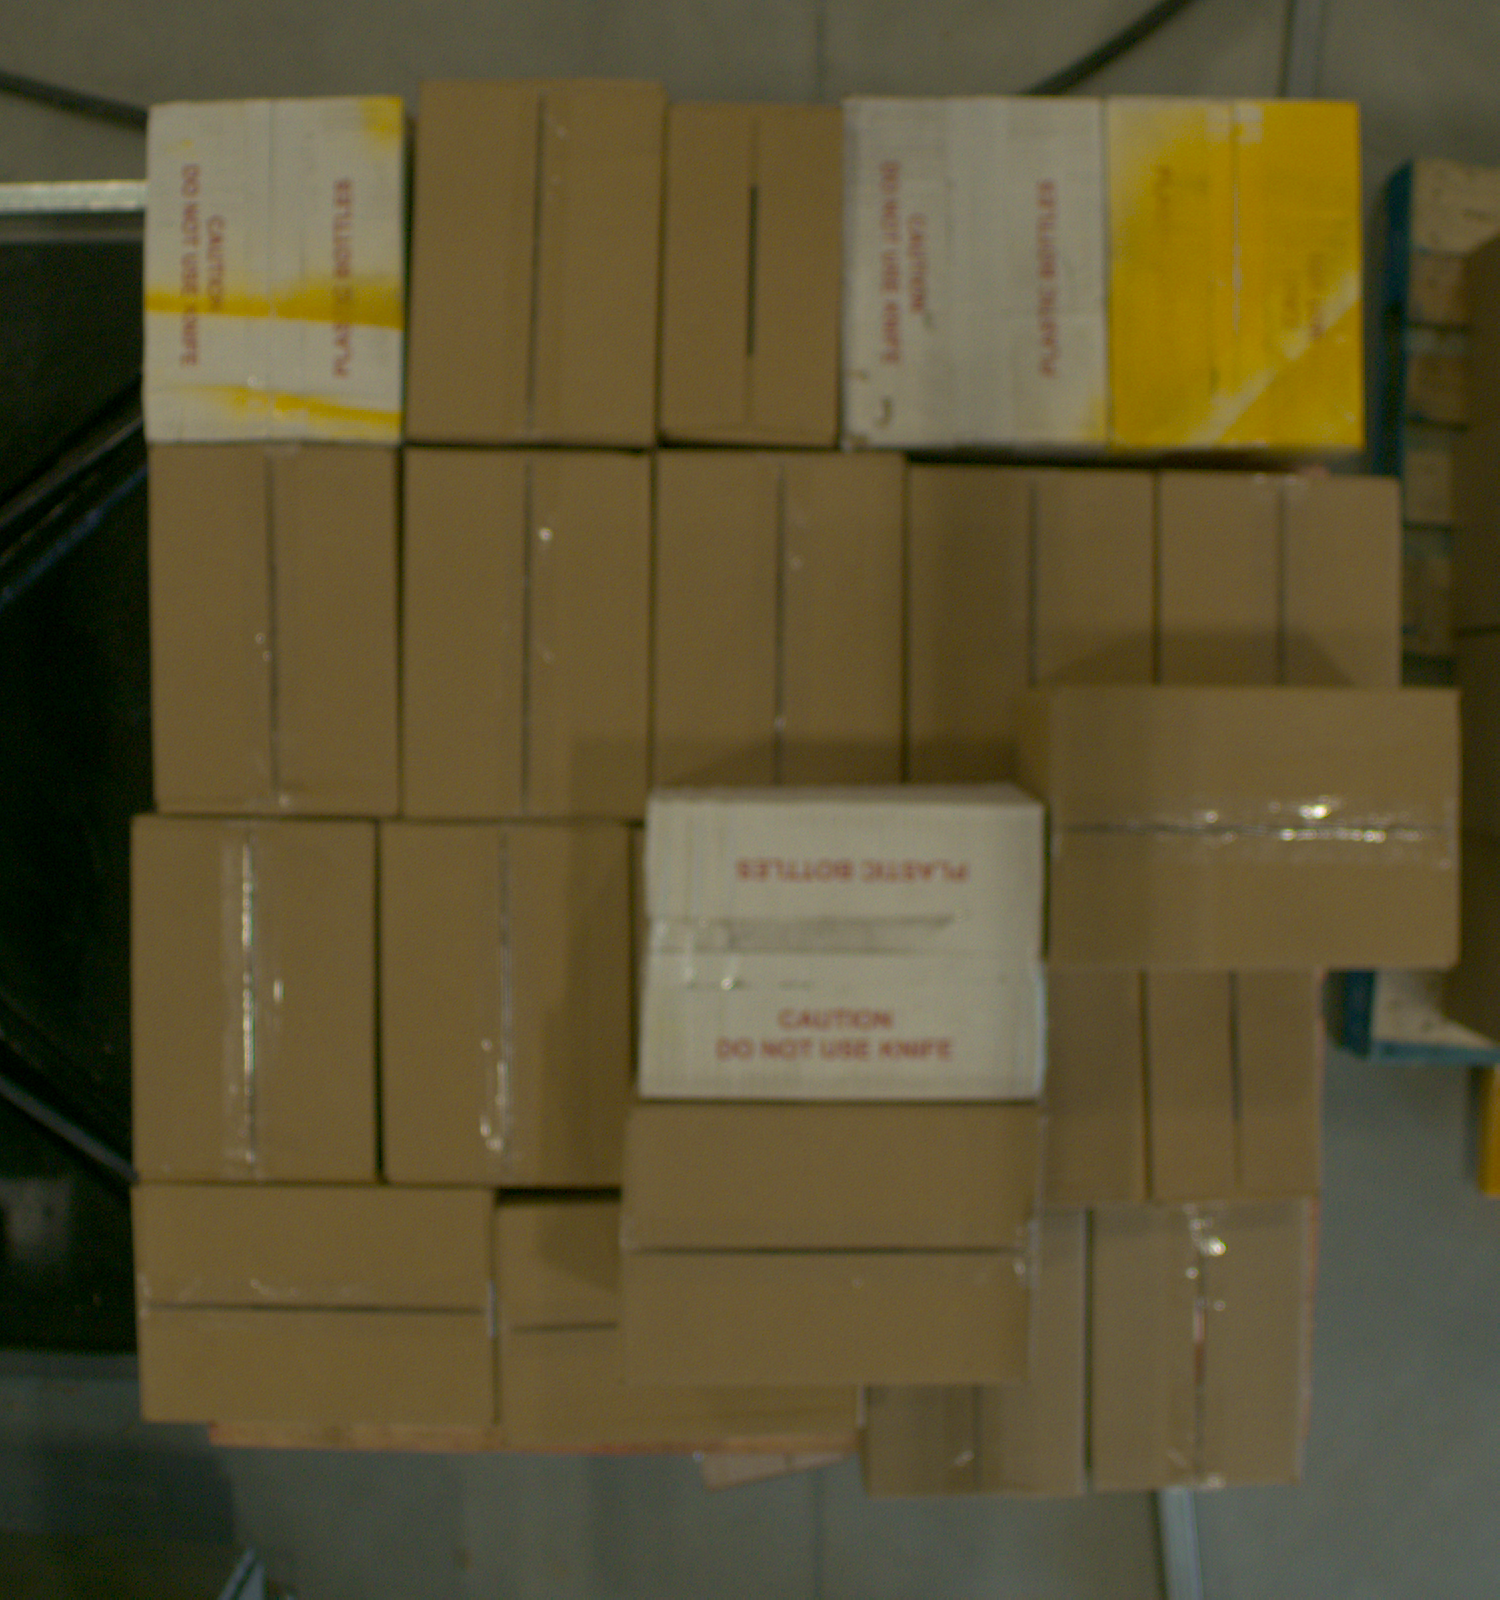box top: (639, 804, 1047, 1107), (625, 1109, 1045, 1383), (1055, 692, 1463, 968), (409, 80, 665, 445), (142, 97, 405, 445), (844, 99, 1105, 448), (149, 451, 400, 811), (403, 453, 648, 818), (1109, 97, 1363, 450), (381, 827, 629, 1186), (498, 1207, 867, 1444), (134, 823, 376, 1183), (133, 1188, 495, 1427), (658, 454, 902, 787), (909, 469, 1152, 781), (660, 101, 846, 445), (870, 1214, 1086, 1499), (1095, 1207, 1305, 1489), (1162, 476, 1400, 688), (1150, 970, 1325, 1198)
